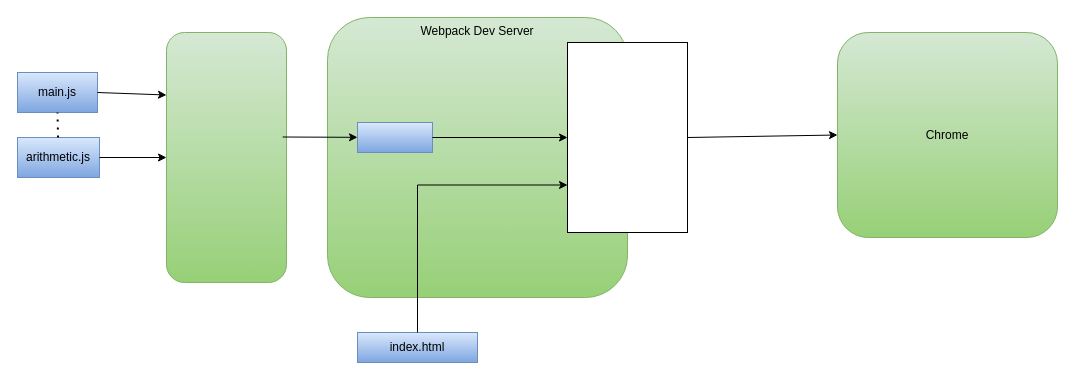
This 1075x380 diagram has some shape labels left out. Here are the shapes that lost their labels. From the top down, the centre of each, then its label:
At point 226,157: "Webpack Bundler".
At point 394,137: "bundle.js".
At point 627,137: "HTTP".
